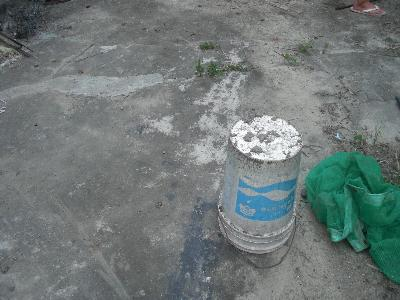bucket: (216, 114, 305, 256)
plastic_bag: (305, 151, 400, 287)
